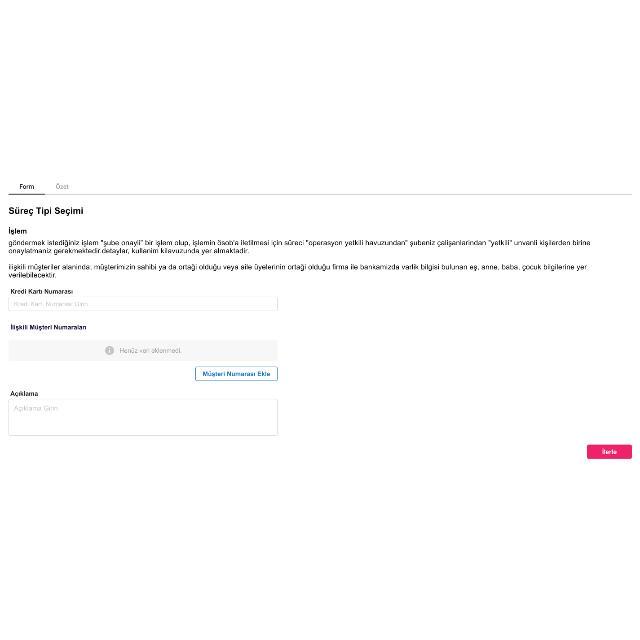QLabel: (8, 262, 588, 280), (9, 239, 592, 255), (8, 204, 84, 216), (11, 323, 88, 331), (120, 346, 182, 354), (202, 371, 270, 377), (10, 288, 74, 294), (10, 390, 38, 396), (7, 226, 27, 234), (18, 183, 34, 189), (601, 448, 617, 454), (55, 182, 69, 188)
VAlert: (9, 338, 278, 362)
VBtn: (195, 366, 278, 380), (587, 444, 633, 460)
VIcon: (106, 346, 114, 354)
VTabs: (3, 175, 637, 463)
VTextField: (8, 295, 278, 311)
VTextarea: (9, 398, 278, 436)
